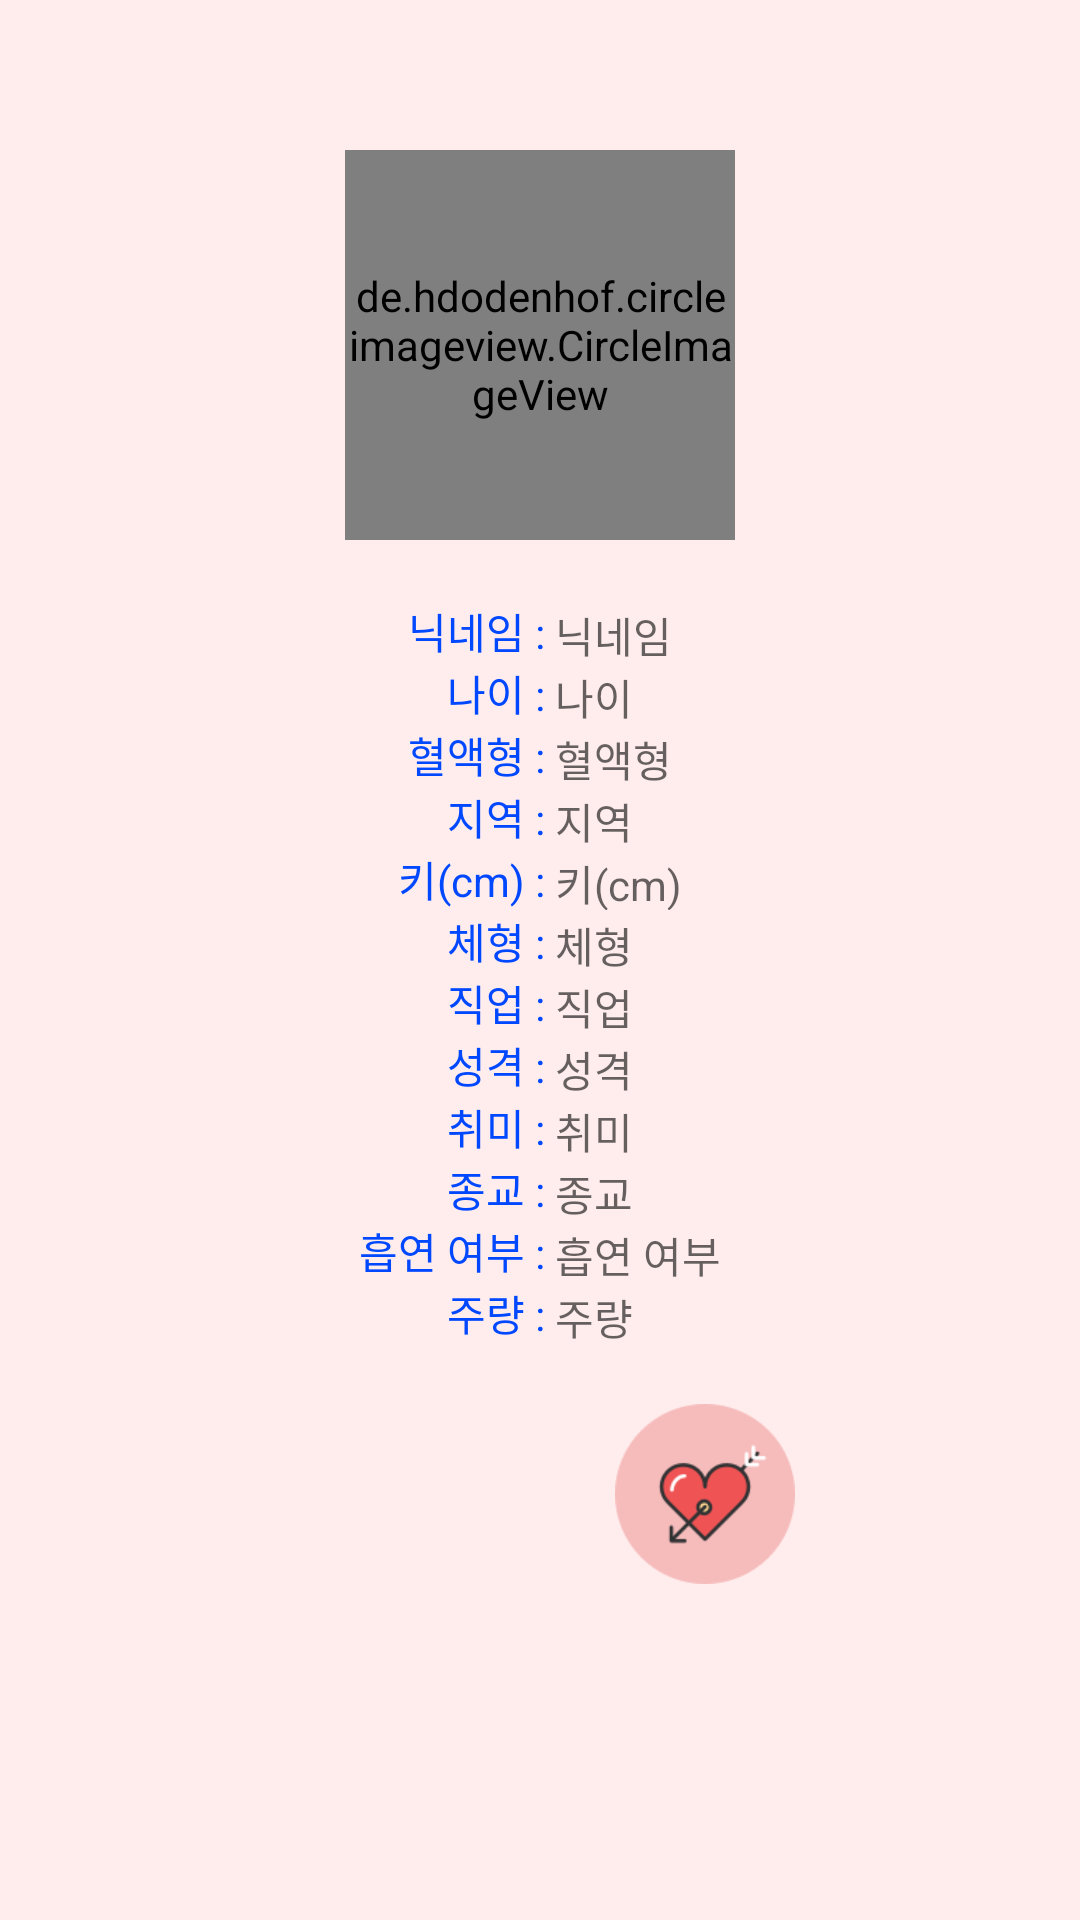

Where to tap for icons on this 1080*1920 app screen, as (x,y):
love: (705,1494)
